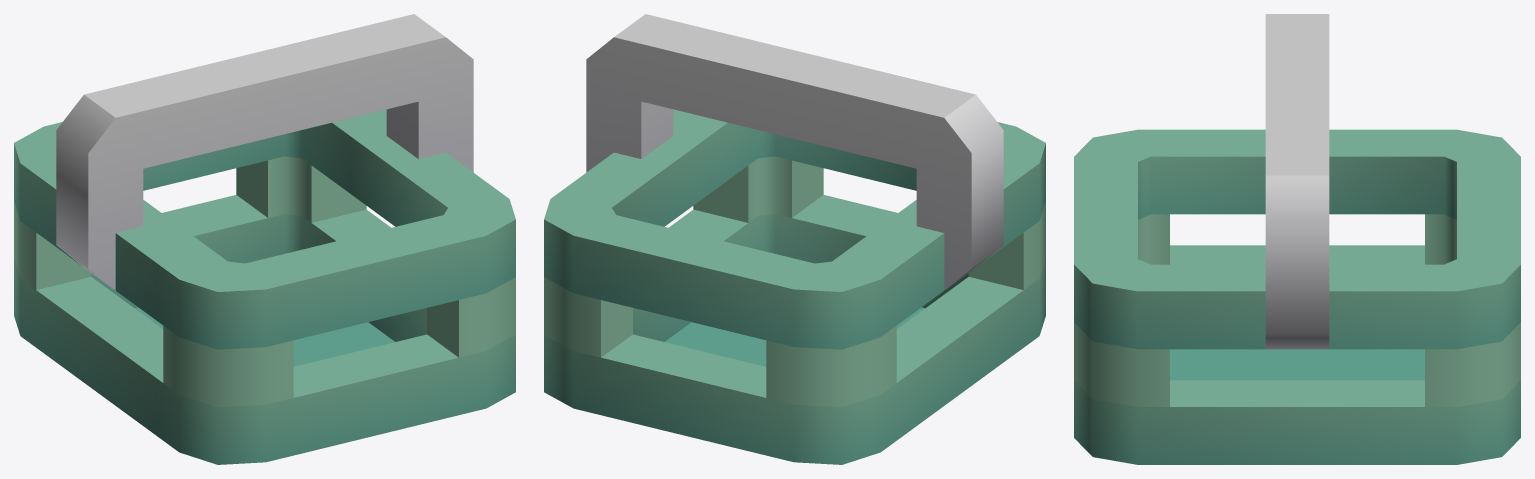
File: shopping-basket.glb
3 renders of one model, left to right at view 1: azimuth 30°, elevation 25°; view 2: azimuth 150°, elevation 25°; view 3: azimuth 270°, elevation 25°, orthographic.
Parts seen in each view (by area): view 1: shopping-basket; view 2: shopping-basket; view 3: shopping-basket.
Part boxes in pixels (x1=…): shopping-basket: x1=14, y1=14, x2=515, y2=464; shopping-basket: x1=544, y1=14, x2=1045, y2=464; shopping-basket: x1=1074, y1=14, x2=1520, y2=464.
Bounding box in the file's own units: 0.35 × 0.25 × 0.35.
